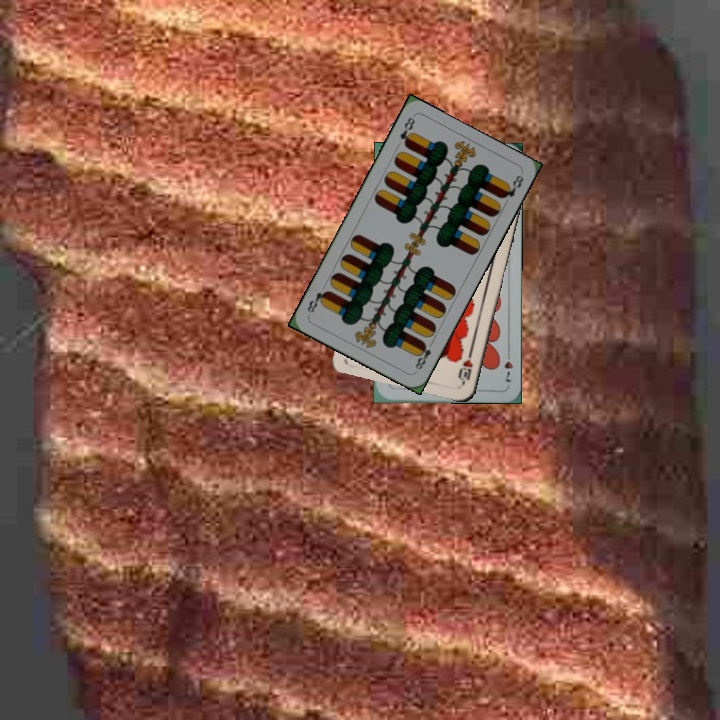E8: (411, 337, 436, 372), (396, 113, 418, 150)
H10: (454, 347, 476, 387)
H7: (500, 346, 516, 385)
